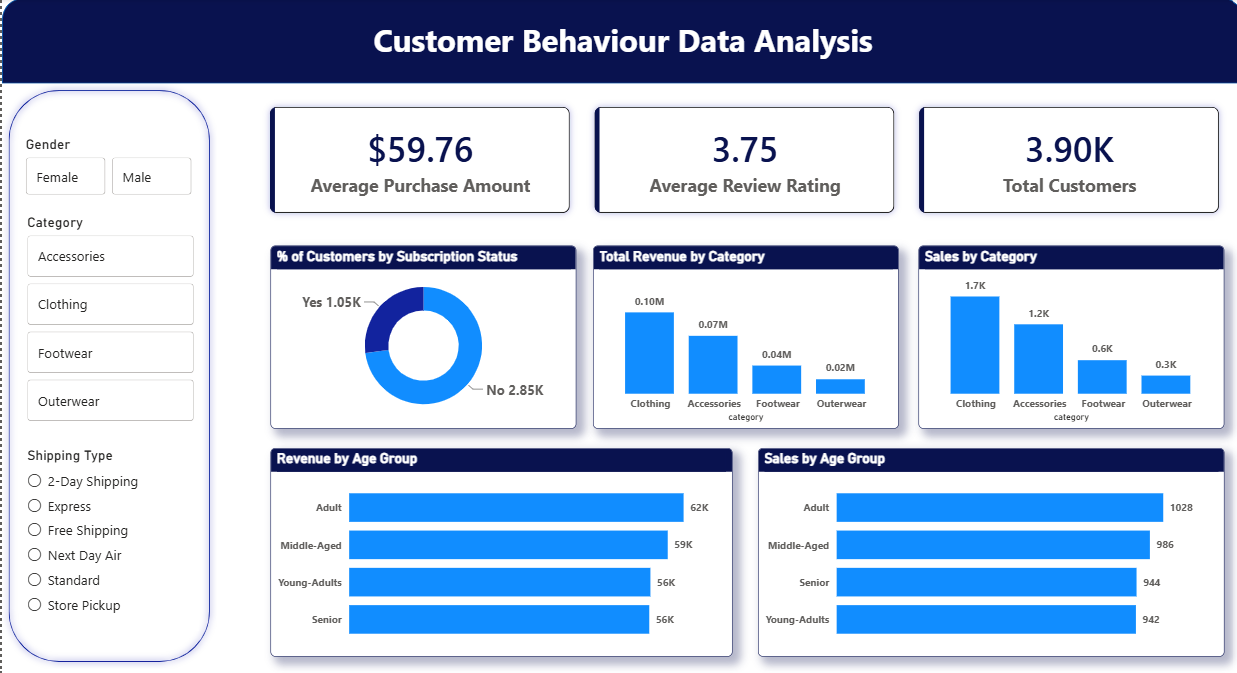

This screenshot's page, from the dashboard's own definition file:
{"tool":"powerbi","page":{"name":"Page 1","canvas":[1500,820],"ordinal":0},"visuals":[{"type":"cardVisual","fields":{"Data":["customer_data.Average Purchase Amount","customer_data.Average Review Rating","customer_data.Total Customers"]},"box":[295.3,103.3,1204.7,184.8],"z":0},{"type":"shape","box":[0,0,1499.9,103.3],"z":1000},{"type":"textbox","box":[0,19.9,1499.9,65.2],"z":2000},{"type":"donutChart","title":"% of Customers by Subscription Status","fields":{"Category":["customer_data.subscription_status"],"Y":["CountNonNull(customer_data.customer_id)"]},"box":[324.3,298.9,369.6,221],"z":3000},{"type":"clusteredColumnChart","title":"Total Revenue by Category","fields":{"Y":["Sum(customer_data.purchase_amount)"],"Category":["customer_data.category"]},"box":[713.7,298.9,369.6,221],"z":4000},{"type":"clusteredColumnChart","title":"Sales by Category","fields":{"Category":["customer_data.category"],"Y":["CountNonNull(customer_data.customer_id)"]},"box":[1106.8,298.9,369.6,221],"z":5000},{"type":"shape","box":[0,103.3,259,706.5],"z":6000},{"type":"advancedSlicerVisual","title":"Gender","fields":{"Values":["customer_data.gender"]},"box":[23.5,166.7,211.9,76.1],"z":7000},{"type":"advancedSlicerVisual","title":"Category","fields":{"Values":["customer_data.category"]},"box":[25.4,260.9,211.9,259],"z":8000},{"type":"listSlicer","title":"Shipping Type","fields":{"Values":["customer_data.shipping_type"]},"box":[25.4,541.6,211.9,222.8],"z":8001},{"type":"clusteredBarChart","title":"Revenue by Age Group","fields":{"Category":["customer_data.age_group"],"Y":["Sum(customer_data.purchase_amount)"]},"box":[324.3,543.5,558,251.8],"z":8002},{"type":"clusteredBarChart","title":"Sales by Age Group","fields":{"Category":["customer_data.age_group"],"Y":["CountNonNull(customer_data.customer_id)"]},"box":[913,543.5,563.4,251.8],"z":8003}]}

Visuals, with their boxes in screenshot pixels (x1, y1, x2, y2), scaled from the page's 1500x820 canvas onto the 1237x673 screenshot:
cardVisual - customer_data.Average Purchase Amount x customer_data.Average Review Rating: (left=244, top=85, right=1236, bottom=236)
shape: (left=0, top=0, right=1236, bottom=85)
textbox: (left=0, top=16, right=1236, bottom=70)
"% of Customers by Subscription Status" donutChart: (left=267, top=245, right=572, bottom=427)
"Total Revenue by Category" clusteredColumnChart: (left=589, top=245, right=893, bottom=427)
"Sales by Category" clusteredColumnChart: (left=913, top=245, right=1218, bottom=427)
shape: (left=0, top=85, right=214, bottom=665)
"Gender" advancedSlicerVisual: (left=19, top=137, right=194, bottom=199)
"Category" advancedSlicerVisual: (left=21, top=214, right=196, bottom=427)
"Shipping Type" listSlicer: (left=21, top=445, right=196, bottom=627)
"Revenue by Age Group" clusteredBarChart: (left=267, top=446, right=728, bottom=653)
"Sales by Age Group" clusteredBarChart: (left=753, top=446, right=1218, bottom=653)
